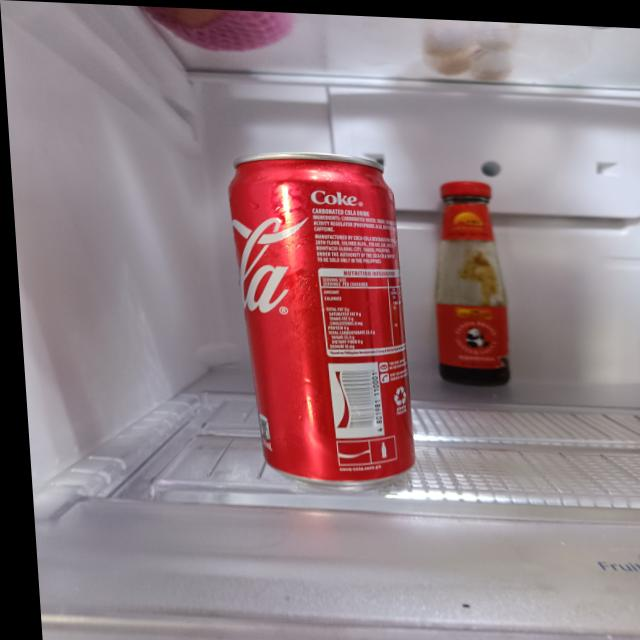coke: (224, 150, 410, 476)
